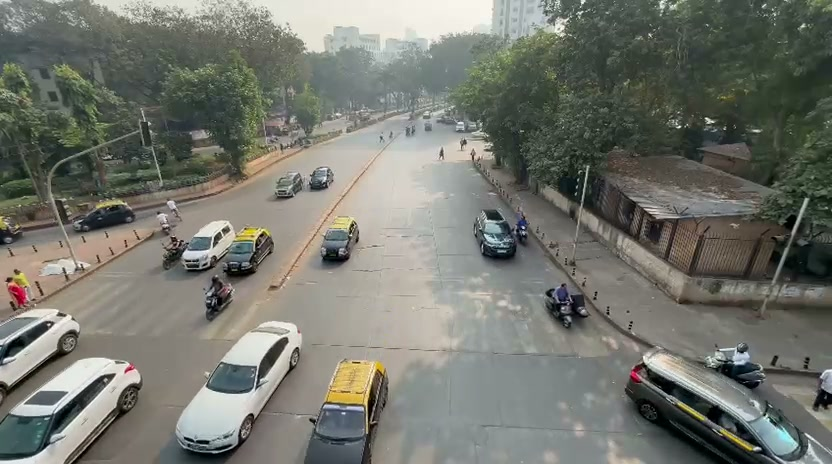car: (624, 349, 810, 462), (174, 320, 302, 454), (0, 356, 143, 462), (305, 358, 390, 463), (0, 307, 81, 401), (701, 341, 767, 388), (181, 219, 236, 271), (224, 226, 275, 275), (474, 208, 518, 258), (72, 202, 136, 232), (320, 215, 359, 261), (544, 284, 588, 319), (40, 257, 91, 280), (274, 172, 304, 199), (309, 167, 335, 190)
motorcycle: (204, 280, 234, 319)
pedestrian: (6, 269, 31, 311), (204, 275, 233, 309), (813, 368, 832, 410), (439, 147, 445, 161)
